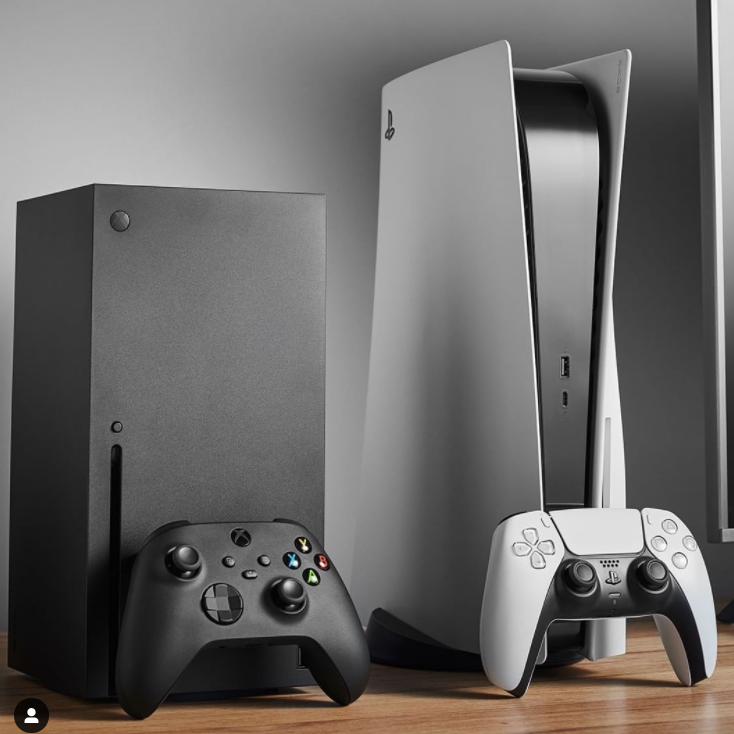gamingconsole: (118, 519, 375, 711), (479, 506, 717, 697)
